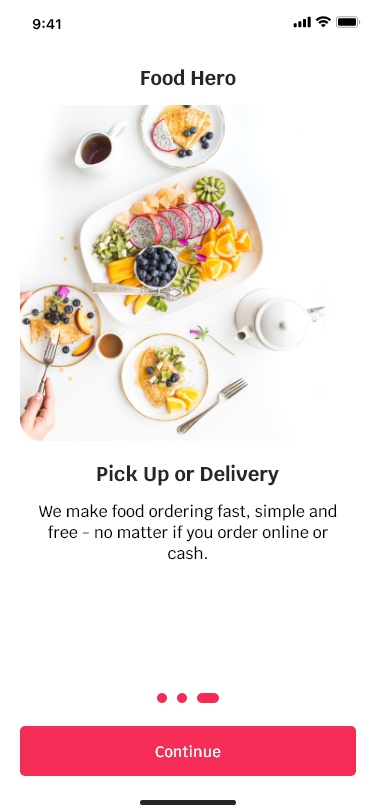Image: (21, 106, 327, 442)
PageIndicator: (157, 692, 220, 704)
Text: (39, 503, 337, 560), (97, 464, 280, 487), (141, 69, 237, 87)
TextButton: (21, 726, 356, 776)
UpperTaskBar: (33, 16, 361, 31)
